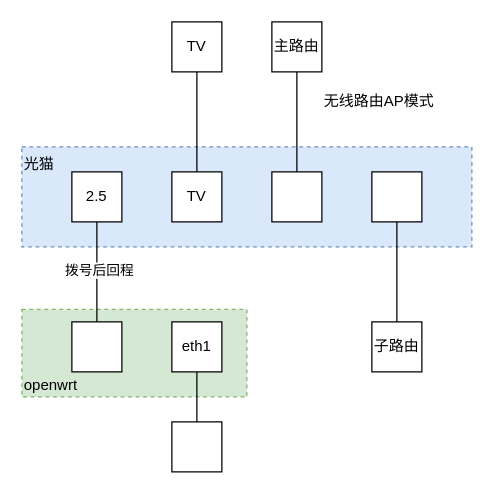
The diagram is 494 pixels wide and 494 high, and some of its shapes have lost their labels. Here are the shapes that lost their labels. From the top down, the centre of each, then its label:
At point (96, 346): "eth0".
At point (196, 446): "PC".
